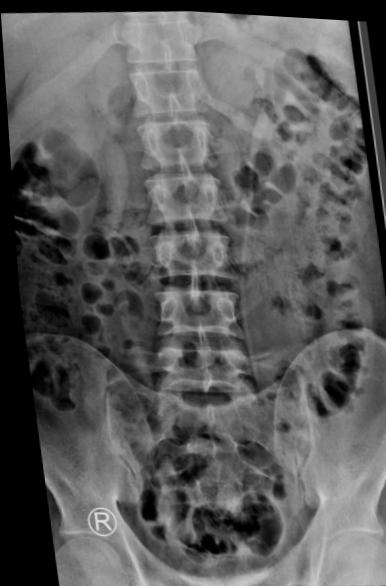vertebrae: (128, 59, 212, 117)
